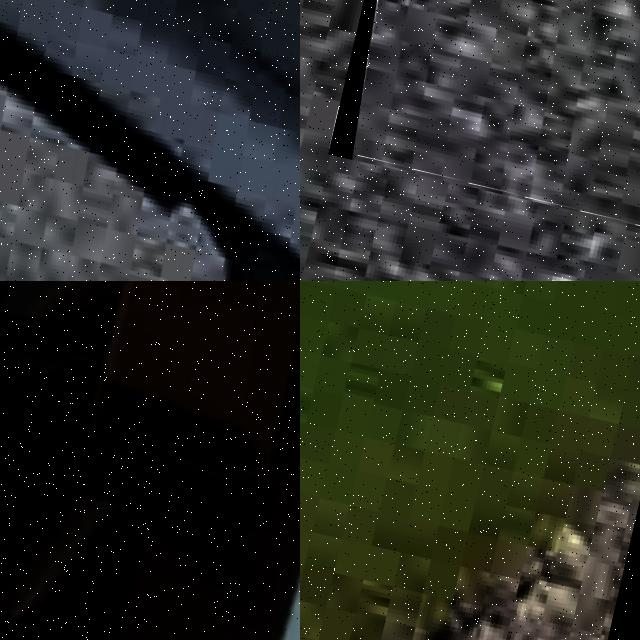0: (0, 0, 300, 281), (328, 0, 640, 259)
drone: (0, 281, 300, 640)
